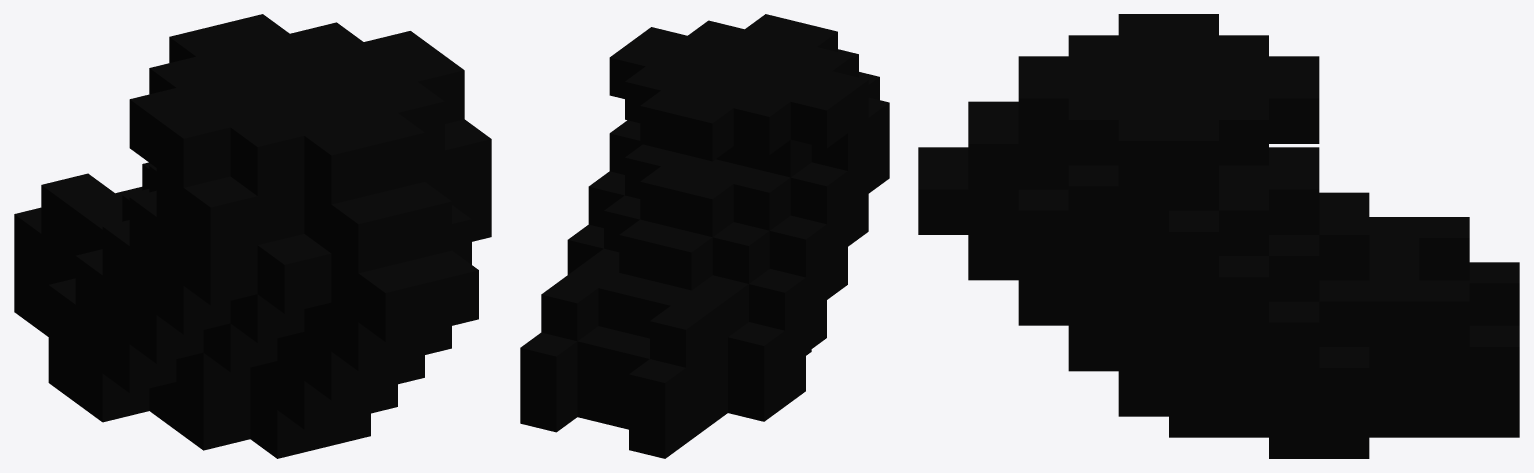
The model's file is LG_Feet.glb.
3 renders of one model, left to right at view 1: azimuth 30°, elevation 25°; view 2: azimuth 150°, elevation 25°; view 3: azimuth 270°, elevation 25°, orthographic. The views are drawn at different scales.
Visible parts, largest first — view 1: LG_Feet_Node; view 2: LG_Feet_Node; view 3: LG_Feet_Node.
Part boxes in pixels (<box>): LG_Feet_Node: <box>14,14,491,458</box>; LG_Feet_Node: <box>520,14,889,458</box>; LG_Feet_Node: <box>918,14,1519,458</box>.
Size of the model in its own units: 6 by 7 by 12.
1 material, 1 textured.
